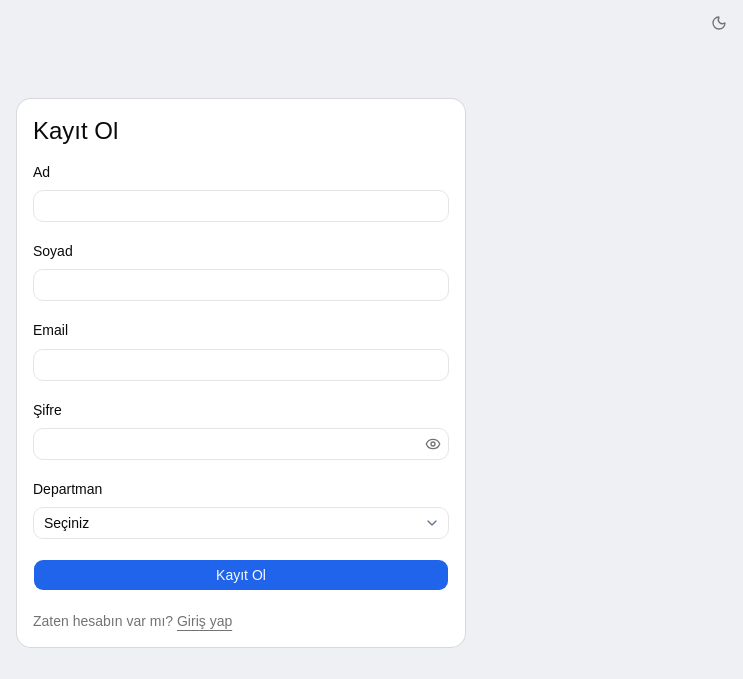
Test: Register page › blocks submission and shows a validation error when no department is chosen
Expected: the dropdown labelled "Departman" is shown, [33,507,449,539]
Type "Taha" into the field labelled "Ad" at (241, 206), box [33,190,449,222]
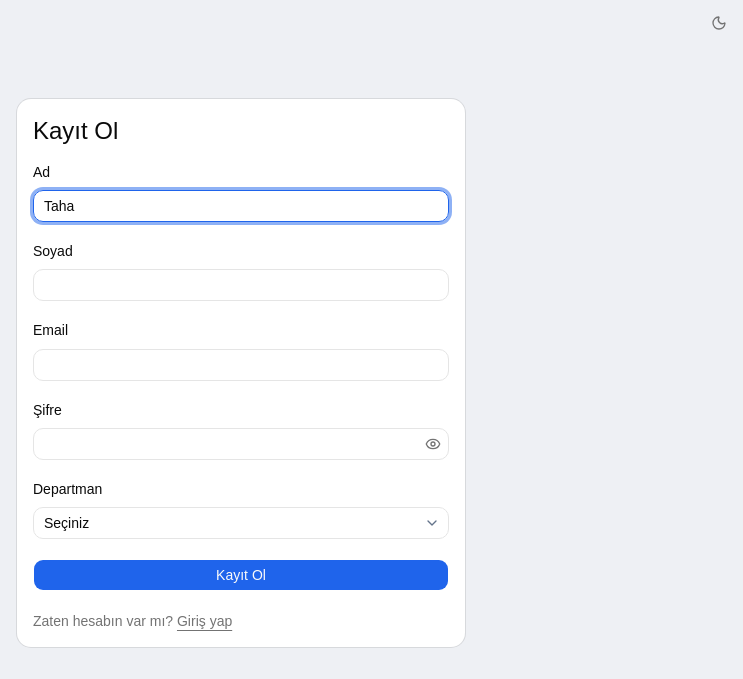
Type "Bugra" into the field labelled "Soyad" at (241, 285), box [33,269,449,301]
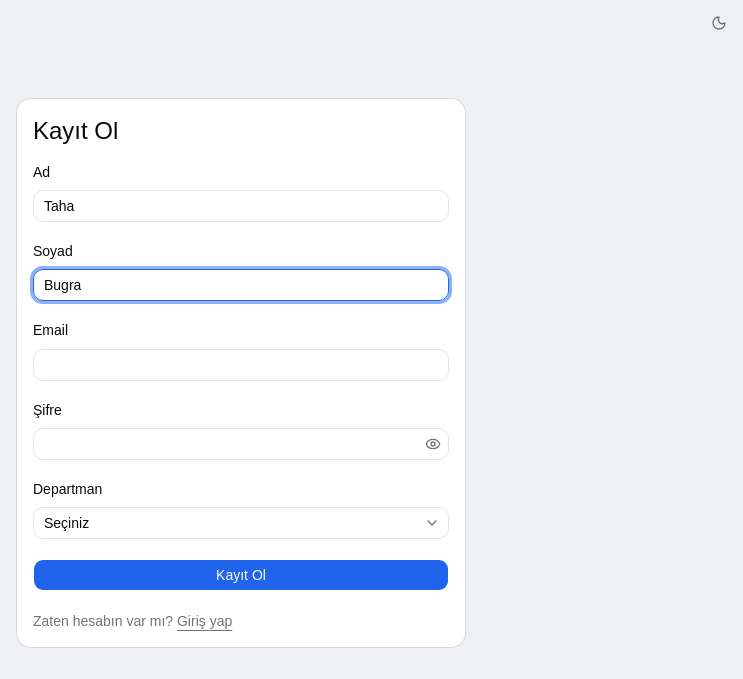
Type "taha@gmail.com" into the field labelled "Email" at (241, 365), box [33,349,449,381]
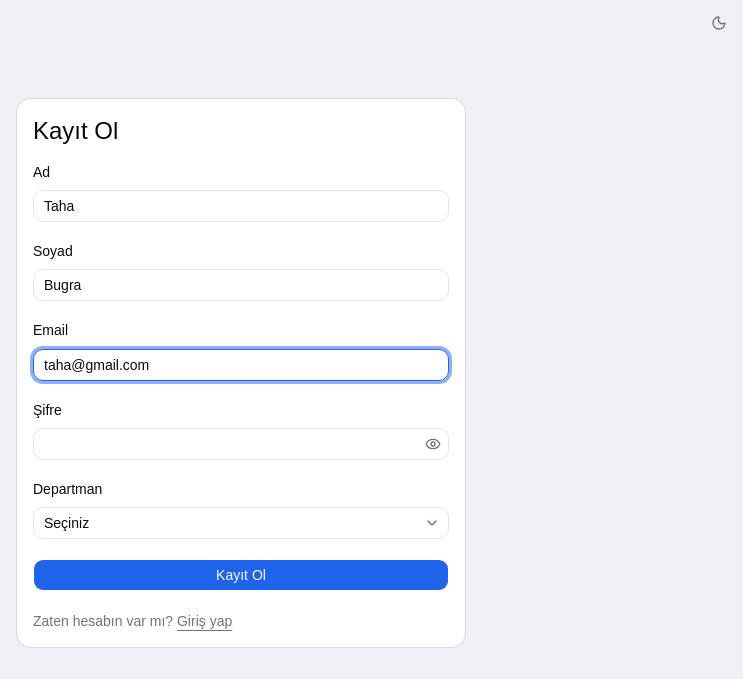
Type "sifre1234test" into the password field labelled "Şifre" at (241, 444), box [33,428,449,460]
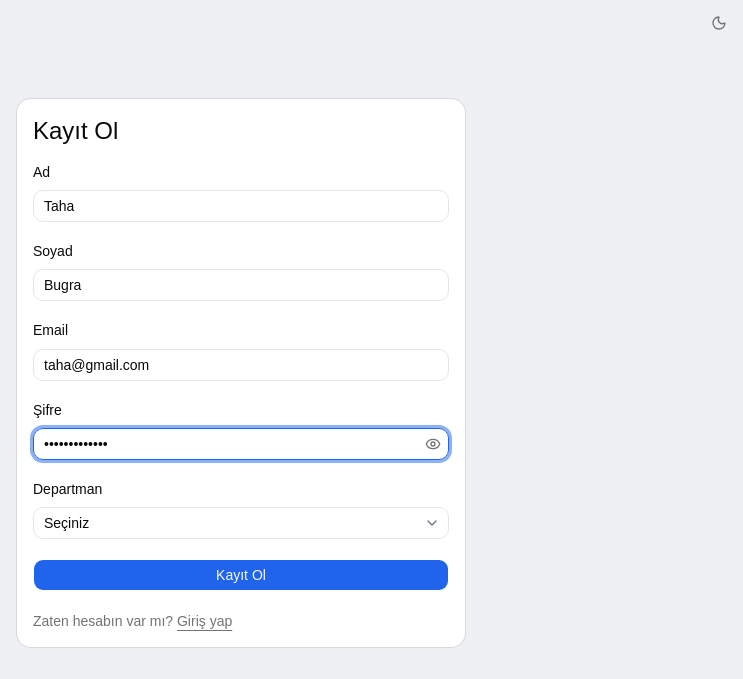
Click the button "Kayıt Ol" at (241, 575), box [33,559,449,591]
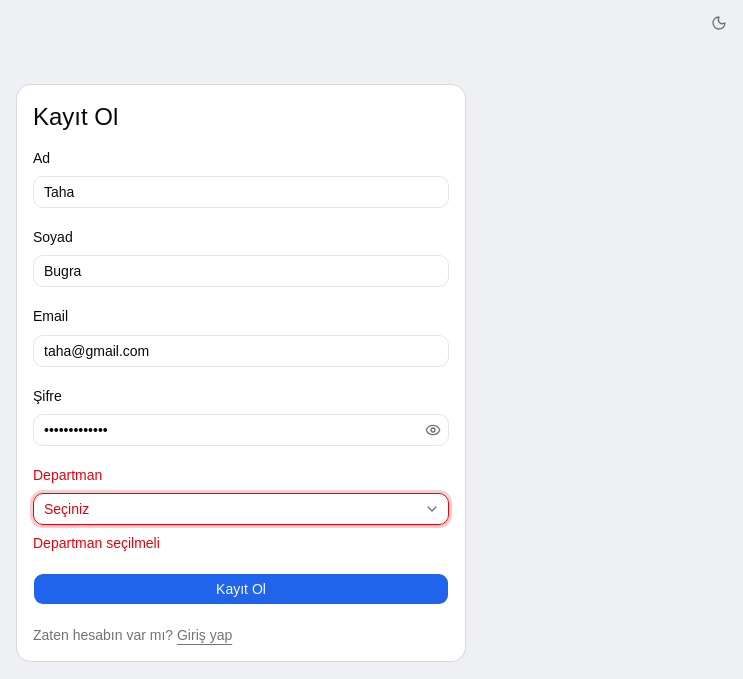
Result: the text "Departman seçilmeli" is shown at [33,535,160,551]
